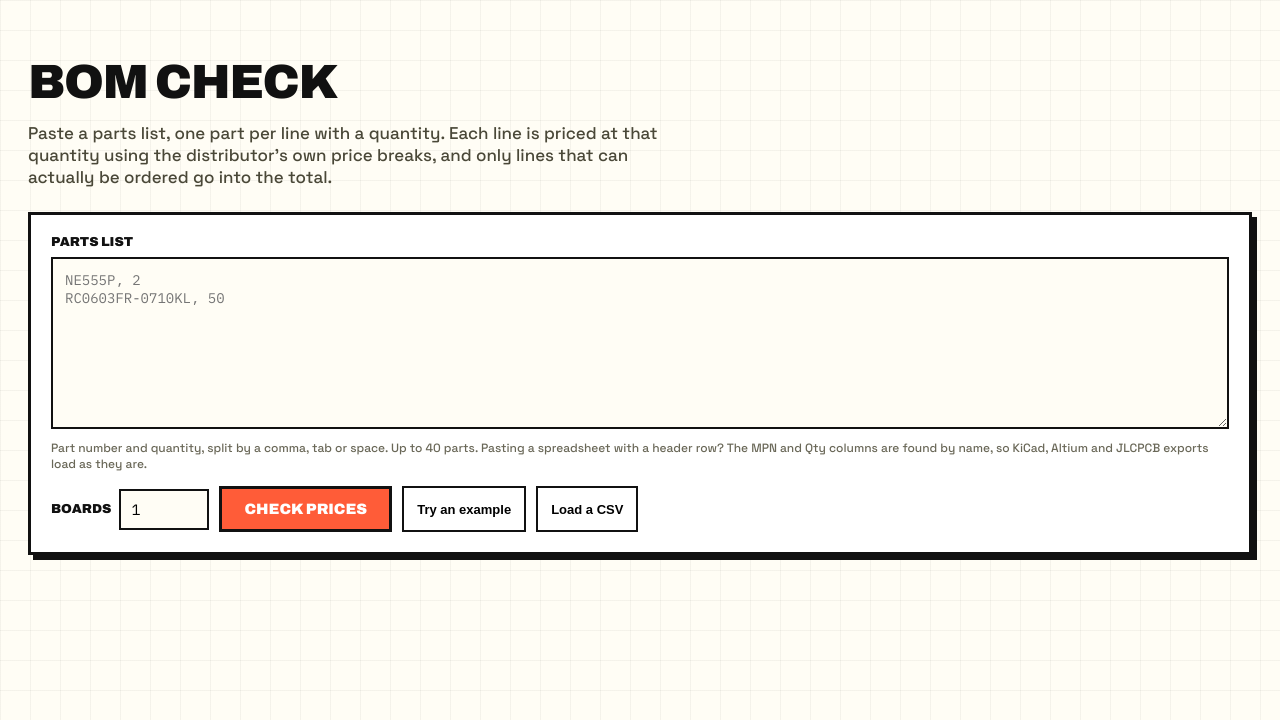
Test: a board count multiplies every line before it is priced
The image size is (1280, 720).
Replace the text in the number field labelled "BOARDS" with "3" at [164, 509], box [119,488,209,530]
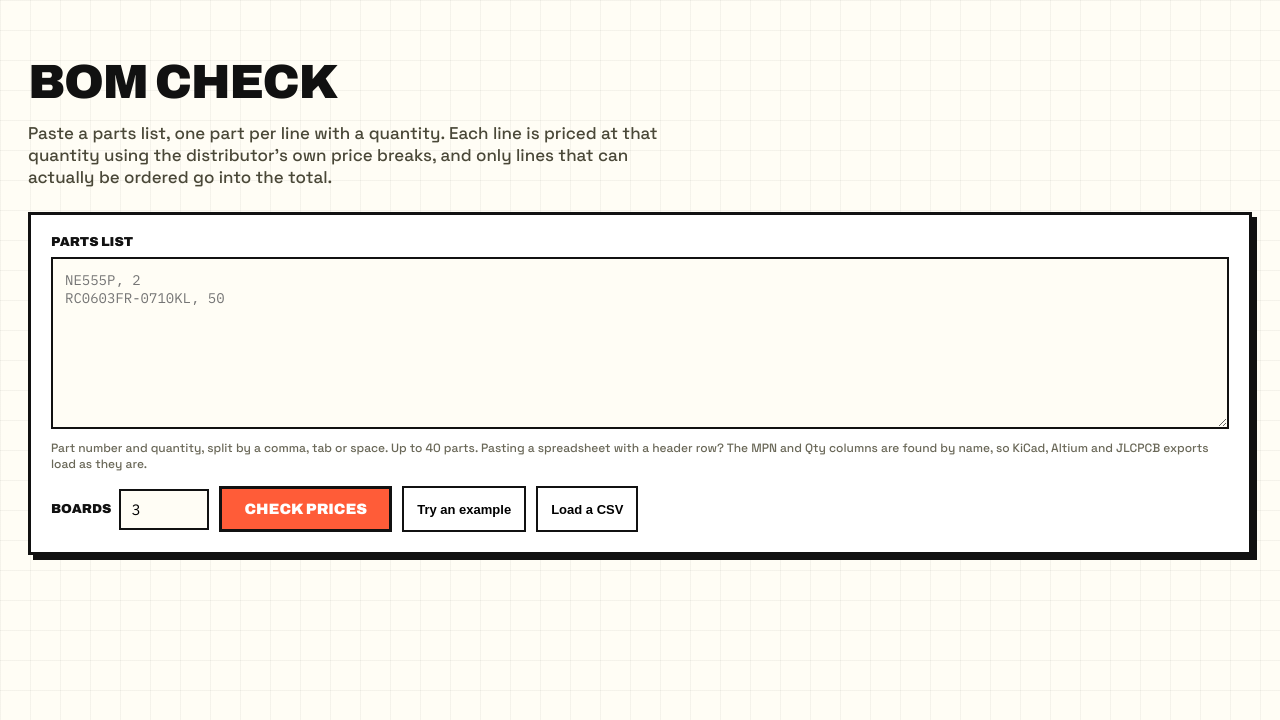
Type "NE555P 5" into the text box labelled "PARTS LIST".
click(640, 343); type("NE555P 5")  # box [51,257,1229,429]
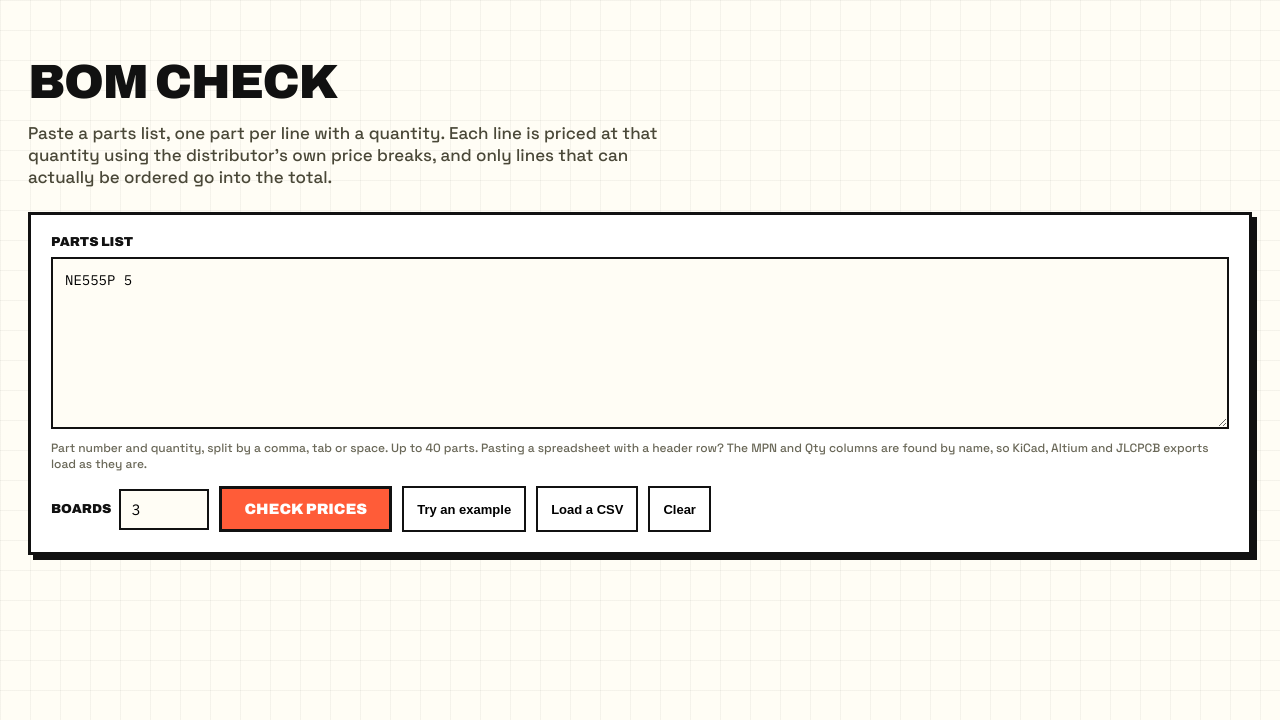
Click the button "CHECK PRICES".
click(306, 509)  # box [219,486,392,532]
(page scrolled)
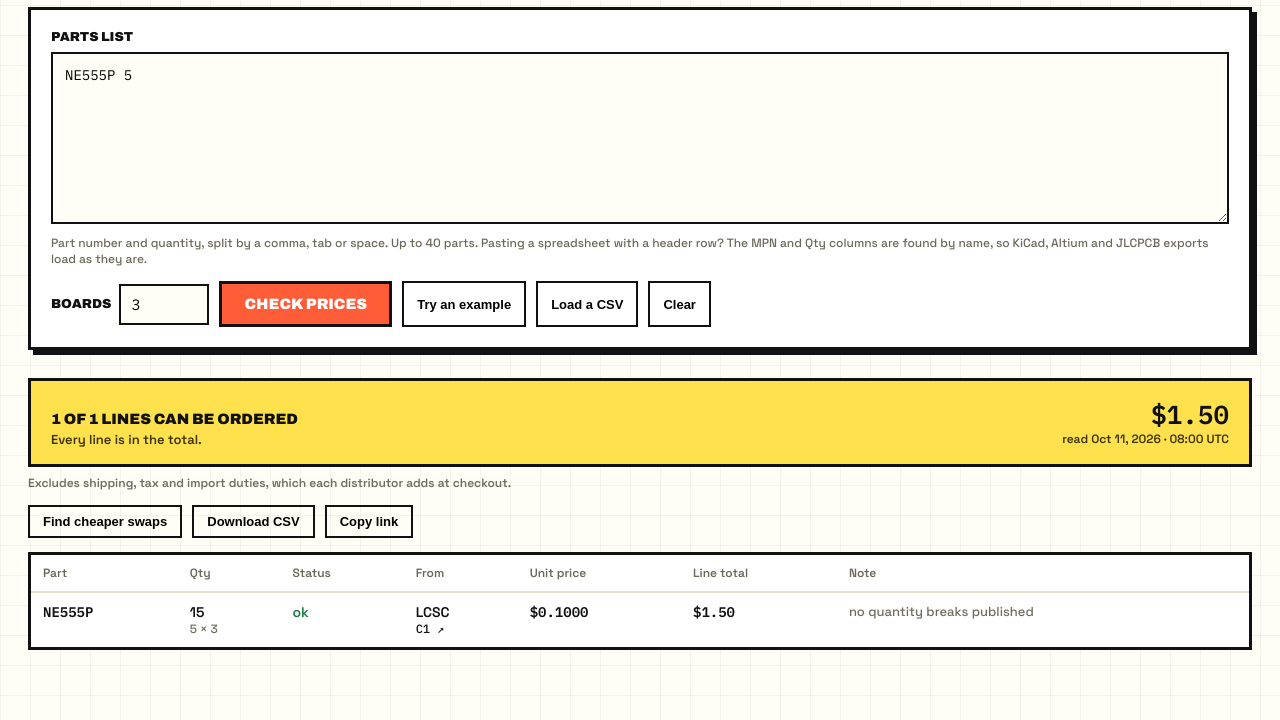
Now the text "1 OF 1 LINES CAN BE ORDERED" is shown, box [51,411,298,427]
Now the text "15" is shown, box [190,603,204,621]
Now the text with test id "bom-total" reads "$1.50", box [1151,397,1229,431]
